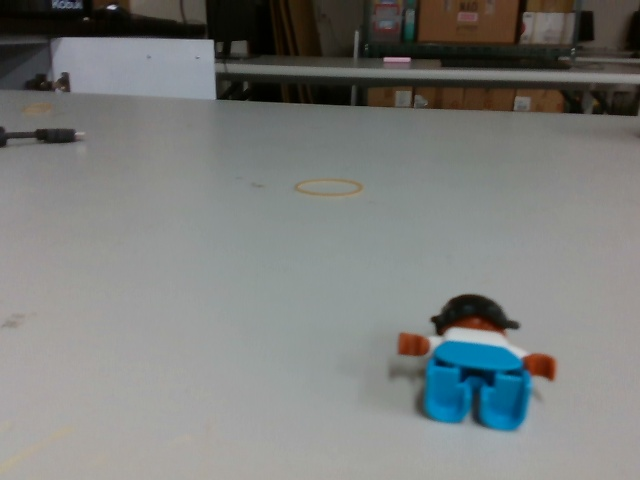people: (396, 283, 559, 434)
